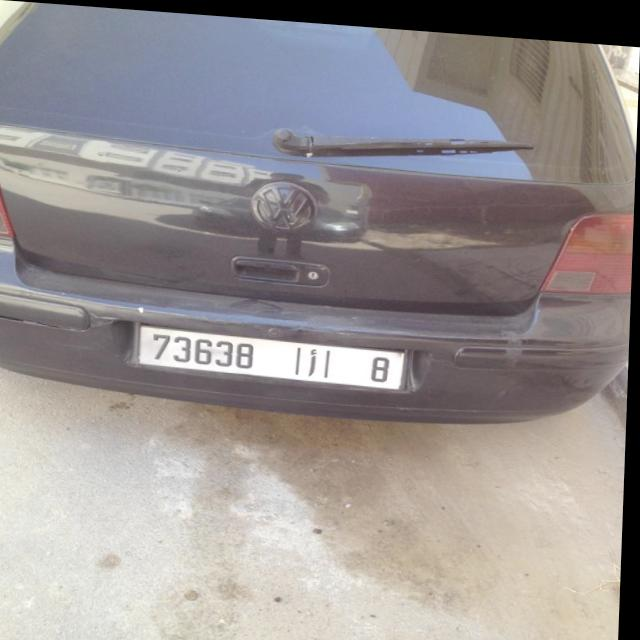License-Plate: (140, 323, 407, 383)
